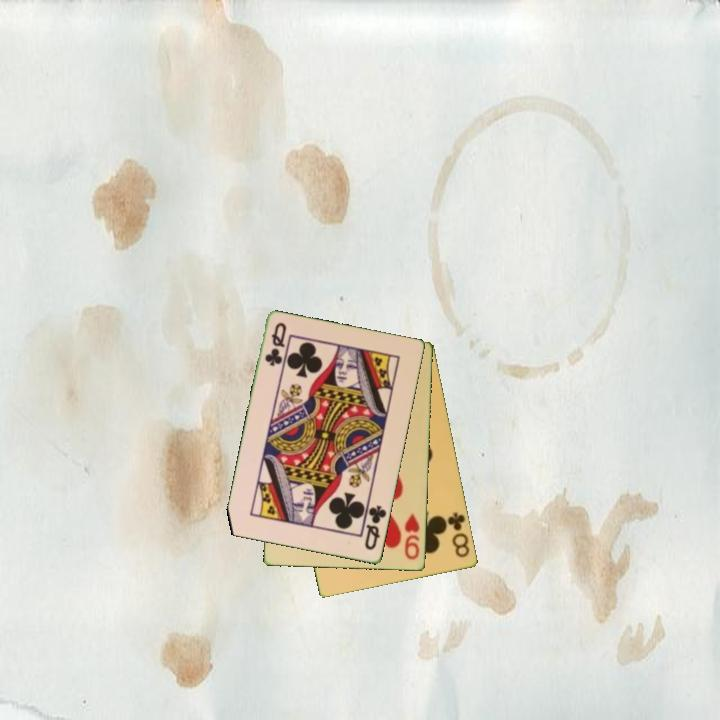8c: (442, 509, 473, 561)
9h: (401, 510, 422, 563)
Qc: (361, 502, 390, 553), (261, 319, 290, 369)
